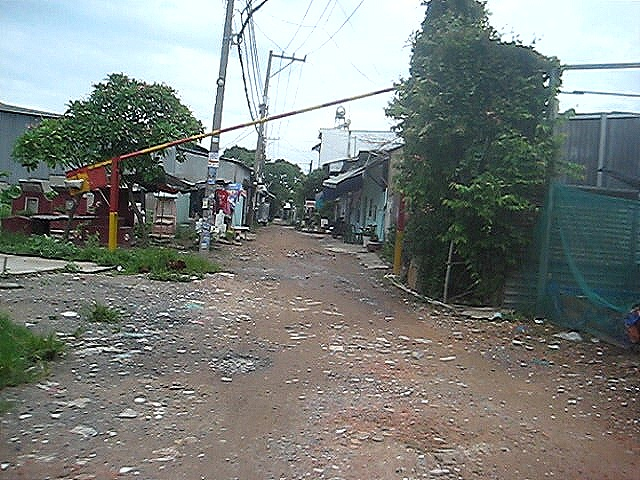hole: (200, 352, 272, 381), (332, 272, 381, 308), (203, 268, 241, 280), (257, 272, 286, 281)
